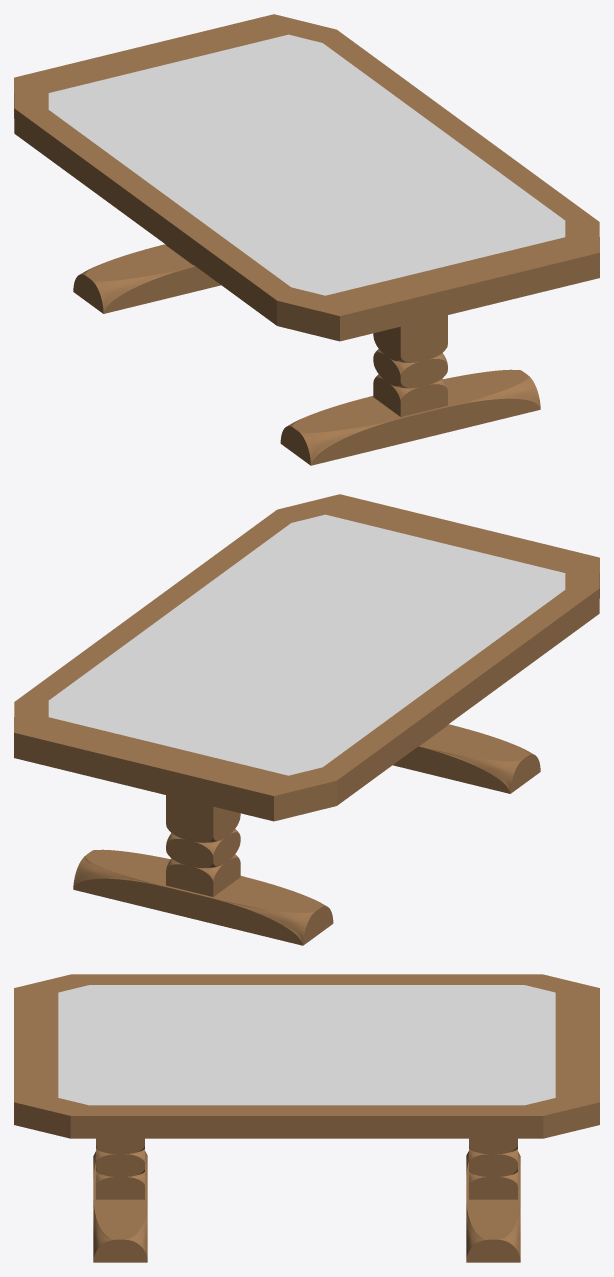
The model's file is hartz tisch.fbx.
3 views of the same model, one above another, from view 1: azimuth 30°, elevation 25°; view 2: azimuth 150°, elevation 25°; view 3: azimuth 270°, elevation 25° (orthographic). The views are drawn at different scales.
Visible parts, largest first — view 1: Plane.002, Plane.001, Foot; view 2: Plane.002, Plane.001, Foot; view 3: Plane.002, Plane.001, Foot.
Boxes of the visible parts, x1,y1,x2,y2 form: Plane.002: (48, 34, 565, 295); Plane.001: (14, 14, 599, 341); Foot: (73, 244, 540, 465); Plane.002: (48, 514, 565, 775); Plane.001: (14, 494, 599, 821); Foot: (73, 724, 540, 945); Plane.002: (58, 985, 555, 1105); Plane.001: (14, 974, 599, 1138); Foot: (93, 1138, 520, 1262).
Bounding box in the file's own units: 80 × 44 × 140.
